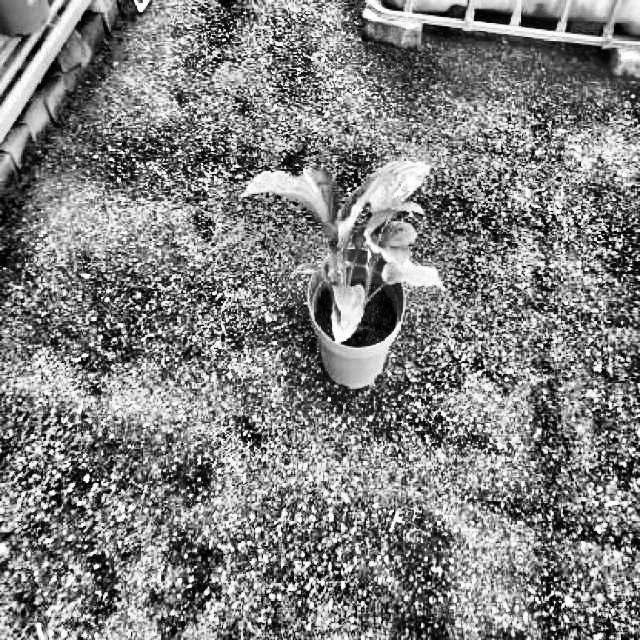plants: (241, 159, 448, 344)
